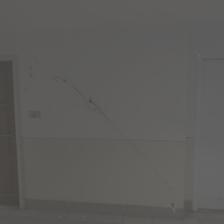High: (21, 62, 182, 209)
